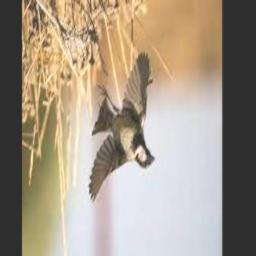Sparrow: (88, 53, 155, 203)
